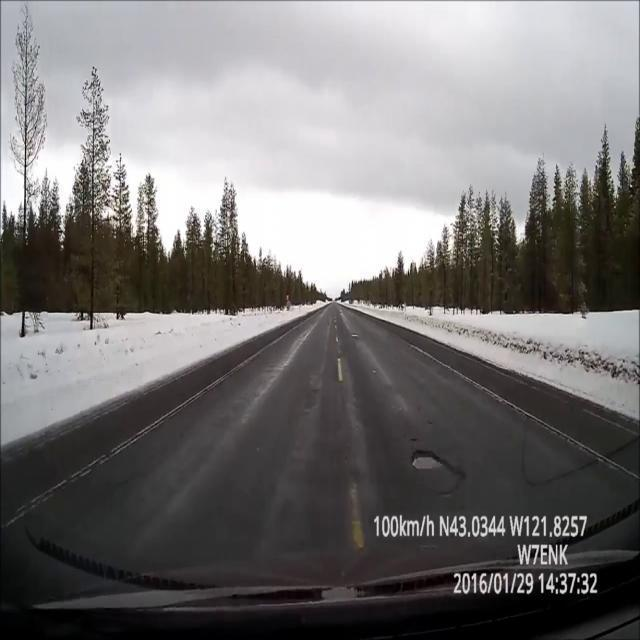pothole: (411, 450, 467, 493)
